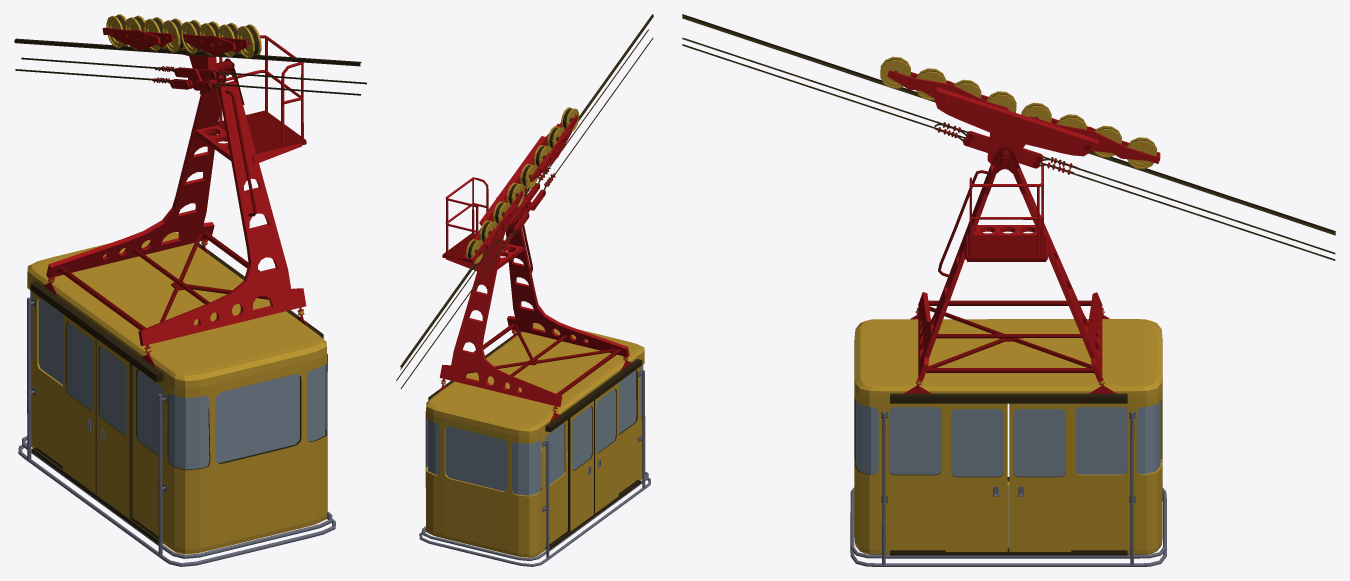
3 views of the same model, side by side, from view 1: azimuth 30°, elevation 25°; view 2: azimuth 150°, elevation 25°; view 3: azimuth 270°, elevation 25° (orthographic). The views are drawn at different scales.
Visible parts, largest first — view 1: Cabin.Walls, Legs.Legs, Window_Front, Handle_Outside.Handle, Door_Front_Right.Door, Door_Back_Right.Door, Door_Holders.Holders, Window_Front_Right, Head.Head, Sticks.Sticks, Door_Front_Right.Window, Door_Back_Right.Window (+13 smaller); view 2: Cabin.Walls, Legs.Legs, Window_Back, Handle_Outside.Handle, Head.Head, Door_Back_Right.Door, Door_Front_Right.Door, Door_Holders.Holders, Window_Back_Right, Sticks.Sticks, Insurance_Rope.Rope, Door_Front_Right.Window (+9 smaller); view 3: Cabin.Walls, Head.Head, Legs.Legs, Door_Back_Left.Door, Door_Front_Left.Door, Handle_Outside.Handle, Door_Holders.Holders, Window_Left_Side_Front, Door_Back_Left.Window, Door_Front_Left.Window, Window_Left_Side_Back, Sticks.Sticks (+8 smaller).
Boxes of the visible parts, x1=… form: Cabin.Walls: x1=27, y1=232, x2=326, y2=554; Legs.Legs: x1=46, y1=75, x2=306, y2=345; Window_Front: x1=215, y1=374, x2=299, y2=463; Handle_Outside.Handle: x1=18, y1=297, x2=335, y2=566; Door_Front_Right.Door: x1=96, y1=339, x2=129, y2=518; Door_Back_Right.Door: x1=63, y1=314, x2=95, y2=493; Door_Holders.Holders: x1=30, y1=243, x2=323, y2=543; Window_Front_Right: x1=168, y1=393, x2=209, y2=469; Head.Head: x1=102, y1=27, x2=248, y2=92; Sticks.Sticks: x1=57, y1=232, x2=268, y2=330; Door_Front_Right.Window: x1=99, y1=347, x2=126, y2=434; Door_Back_Right.Window: x1=67, y1=322, x2=93, y2=410; Cabin.Walls: x1=426, y1=323, x2=644, y2=557; Legs.Legs: x1=439, y1=217, x2=629, y2=406; Window_Back: x1=445, y1=426, x2=507, y2=491; Handle_Outside.Handle: x1=419, y1=370, x2=650, y2=566; Head.Head: x1=463, y1=115, x2=577, y2=263; Door_Back_Right.Door: x1=570, y1=401, x2=593, y2=531; Door_Front_Right.Door: x1=595, y1=383, x2=618, y2=513; Door_Holders.Holders: x1=428, y1=331, x2=642, y2=549; Window_Back_Right: x1=512, y1=440, x2=541, y2=495; Sticks.Sticks: x1=467, y1=323, x2=620, y2=395; Insurance_Rope.Rope: x1=396, y1=29, x2=653, y2=388; Door_Front_Right.Window: x1=596, y1=389, x2=615, y2=452; Cabin.Walls: x1=854, y1=319, x2=1162, y2=554; Head.Head: x1=887, y1=70, x2=1160, y2=163; Legs.Legs: x1=918, y1=165, x2=1102, y2=380; Door_Back_Left.Door: x1=1009, y1=403, x2=1071, y2=551; Door_Front_Left.Door: x1=945, y1=403, x2=1007, y2=551; Handle_Outside.Handle: x1=850, y1=412, x2=1166, y2=566; Door_Holders.Holders: x1=890, y1=393, x2=1127, y2=555; Window_Left_Side_Front: x1=888, y1=407, x2=941, y2=474; Door_Back_Left.Window: x1=1013, y1=409, x2=1065, y2=476; Door_Front_Left.Window: x1=951, y1=409, x2=1003, y2=476; Window_Left_Side_Back: x1=1075, y1=407, x2=1127, y2=474; Sticks.Sticks: x1=926, y1=300, x2=1094, y2=373.
Size of the model in its own units: 5.58 by 15.28 by 17.39.
